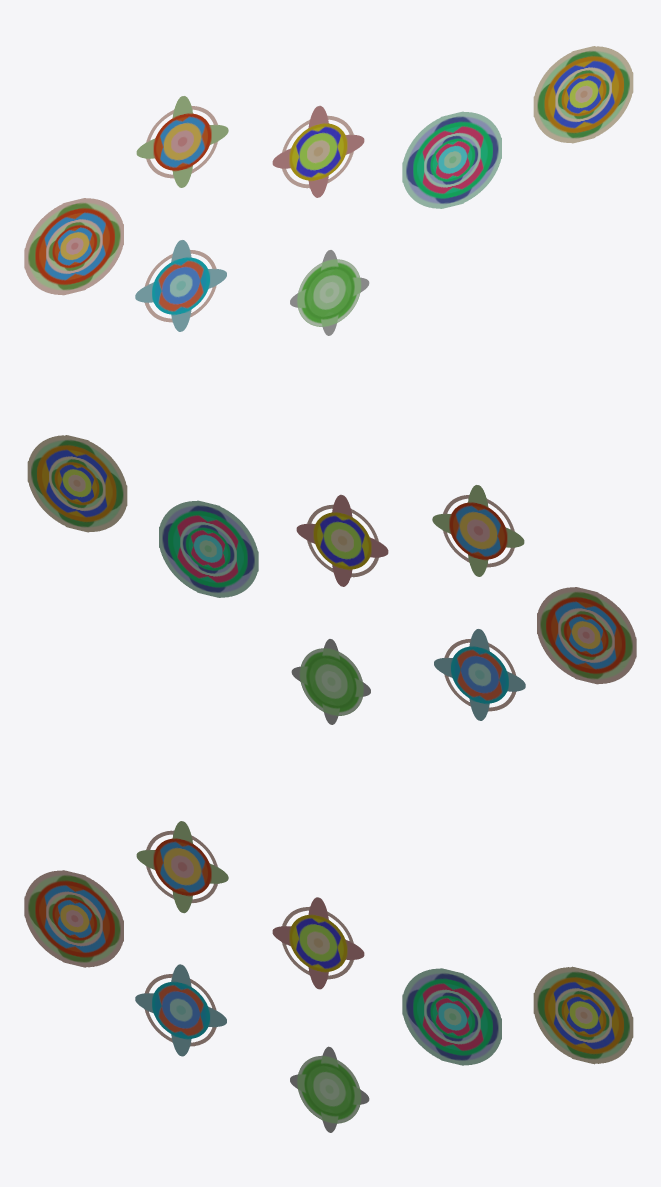
The model's file is you_win_gears.FBX.
3 views of the same model, one above another, from view 1: azimuth 30°, elevation 25°; view 2: azimuth 150°, elevation 25°; view 3: azimuth 330°, elevation 25° (orthographic).
Parts seen in each view (by area): view 1: element7, element6, element1, element4, element2, element3, element5; view 2: element7, element6, element1, element4, element2, element3, element5; view 3: element7, element6, element1, element2, element3, element4, element5.
Part boxes in pixels (x1,y1,x2,y2): element7: (533, 46, 633, 143); element6: (402, 111, 501, 208); element1: (24, 198, 123, 295); element4: (272, 105, 364, 197); element2: (136, 96, 228, 187); element3: (135, 240, 226, 331); element5: (290, 250, 369, 335); element7: (27, 435, 127, 532); element6: (159, 500, 258, 597); element1: (537, 587, 636, 684); element4: (296, 494, 388, 586); element2: (432, 485, 524, 576); element3: (434, 629, 525, 720); element5: (291, 639, 370, 724); element7: (533, 966, 633, 1064); element6: (402, 968, 501, 1065); element1: (24, 870, 123, 967); element2: (136, 821, 228, 913); element3: (135, 964, 226, 1056); element4: (272, 897, 364, 989); element5: (290, 1046, 369, 1132).
Size of the model in its own units: 51.12 by 24.28 by 1.06e-06.
